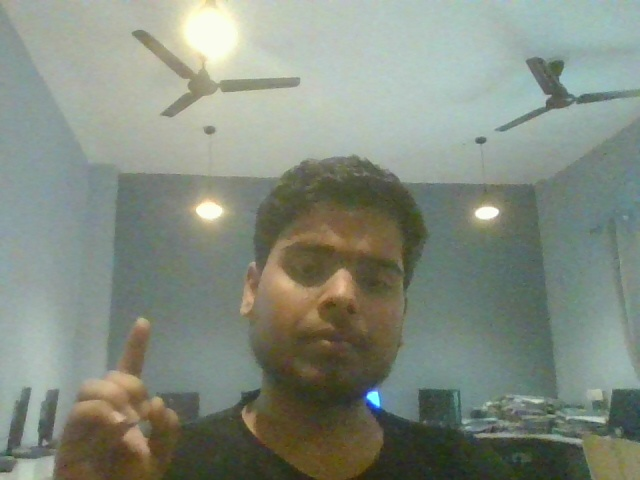D: (38, 309, 212, 477)
